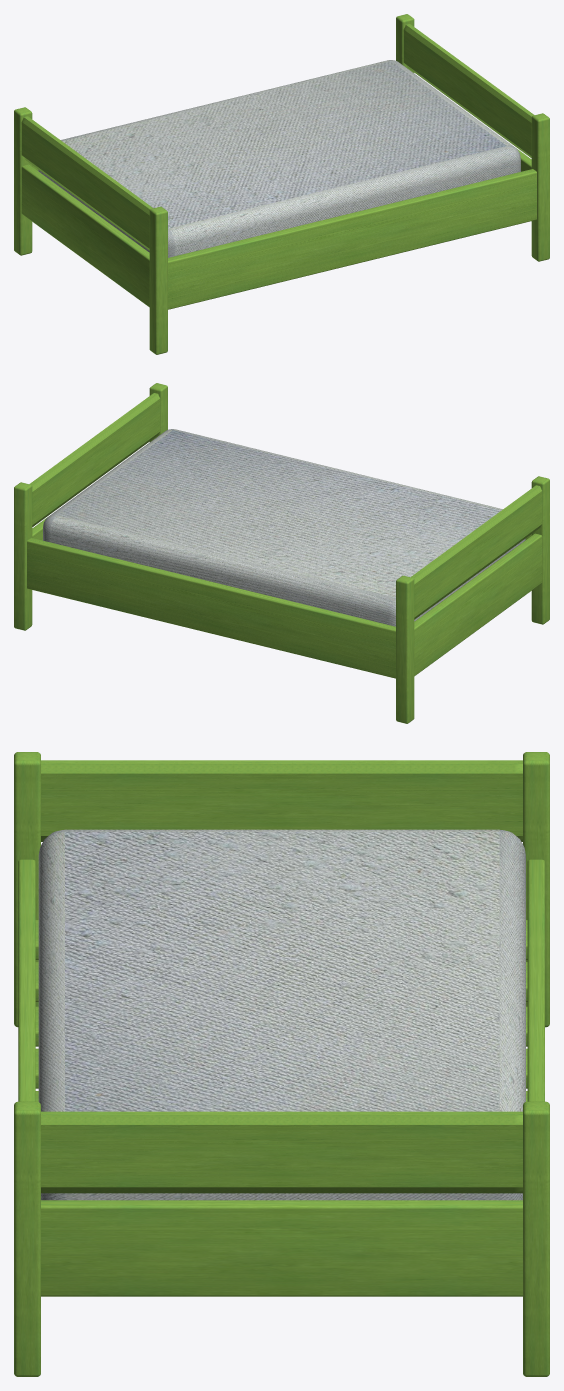
Rendered from bed1_blue.obj.
3 renders of one model, top to bottom at view 1: azimuth 30°, elevation 25°; view 2: azimuth 150°, elevation 25°; view 3: azimuth 270°, elevation 25°, orthographic. The views are drawn at different scales.
Parts seen in each view (by area): view 1: mattress, Cube_2_4, Cube_2_2, Cube_3_2, Cube_3, Cube_2_3, Cube, Cube_1_2, Cube_1; view 2: mattress, Cube_3_3, Cube_2_2, Cube_3_2, Cube_3, Cube_1_2, Cube_1, Cube_2_3, Cube; view 3: mattress, Cube_2, Cube_3, Cube_3_2, Cube, Cube_1, Cube_3_3, Cube_2_4, Cube_2_3, Cube_1_2.
Part boxes in pixels (box(x1,y1,x2,y2)): mattress: box(38, 60, 520, 257); Cube_2_4: box(168, 169, 536, 309); Cube_2_2: box(21, 164, 149, 307); Cube_3_2: box(21, 116, 152, 250); Cube_3: box(403, 24, 534, 157); Cube_2_3: box(149, 206, 167, 354); Cube: box(531, 113, 549, 261); Cube_1_2: box(14, 107, 32, 255); Cube_1: box(396, 14, 414, 72); mattress: box(43, 429, 525, 626); Cube_3_3: box(27, 538, 395, 678); Cube_2_2: box(414, 533, 542, 676); Cube_3_2: box(411, 485, 542, 619); Cube_3: box(29, 393, 160, 526); Cube_1_2: box(396, 575, 414, 723); Cube_1: box(14, 482, 32, 630); Cube_2_3: box(531, 476, 549, 624); Cube: box(149, 383, 167, 441); mattress: box(38, 829, 525, 1200); Cube_2: box(41, 1200, 522, 1296); Cube_3: box(41, 1111, 522, 1193); Cube_3_2: box(41, 760, 522, 841); Cube: box(14, 1101, 40, 1376); Cube_1: box(523, 1101, 549, 1376); Cube_3_3: box(527, 859, 544, 1101); Cube_2_4: box(18, 859, 35, 1101); Cube_2_3: box(14, 752, 40, 1027); Cube_1_2: box(523, 752, 549, 1027).
Size of the model in its own units: 2415 by 830 by 1515.
